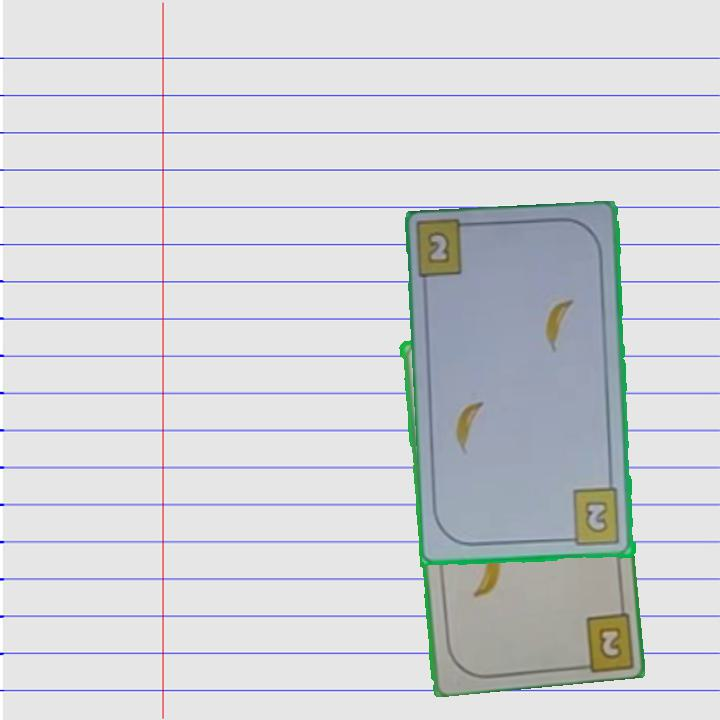2b: (562, 486, 623, 549), (594, 623, 625, 662), (424, 227, 453, 268)
